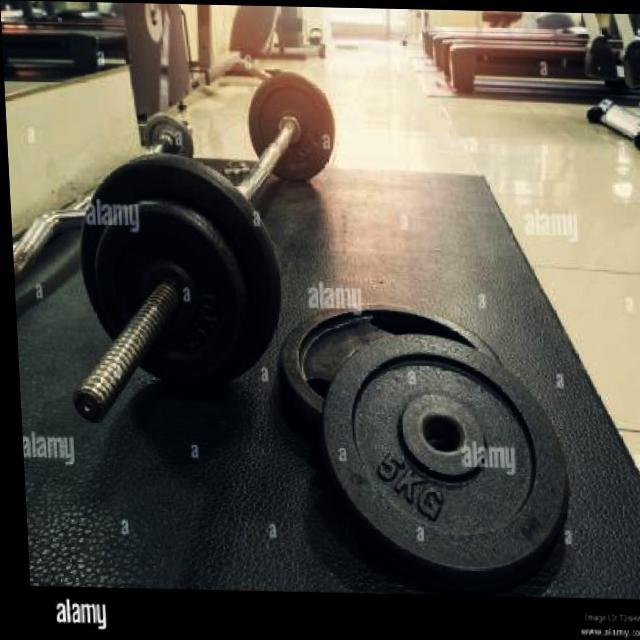barbell: (44, 145, 290, 436)
